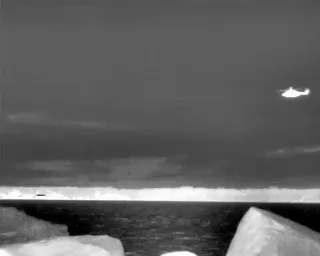HELICOPTER: (273, 81, 316, 104)
